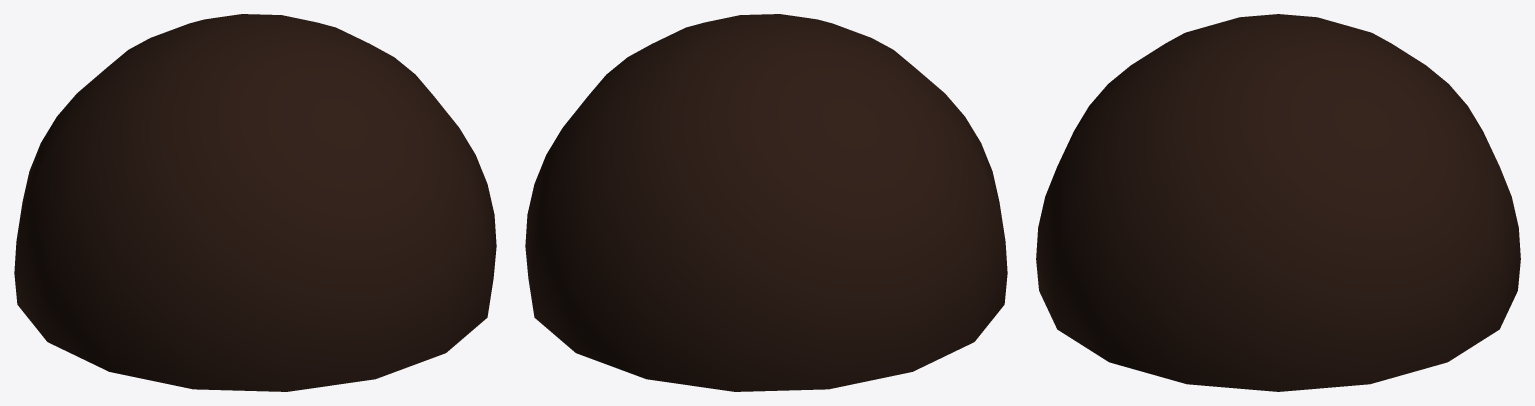
File: hair_short_m.glb
The picture shows the model from 3 angles, left to right: view 1: azimuth 30°, elevation 25°; view 2: azimuth 150°, elevation 25°; view 3: azimuth 270°, elevation 25°; orthographic projection.
Visible parts, largest first — view 1: hair_mesh; view 2: hair_mesh; view 3: hair_mesh.
Boxes of the visible parts, bbox=[...] form: hair_mesh: bbox=[14, 14, 496, 391]; hair_mesh: bbox=[525, 14, 1007, 391]; hair_mesh: bbox=[1036, 14, 1520, 391].
Size of the model in its own units: 0.39 by 0.2255 by 0.39.
